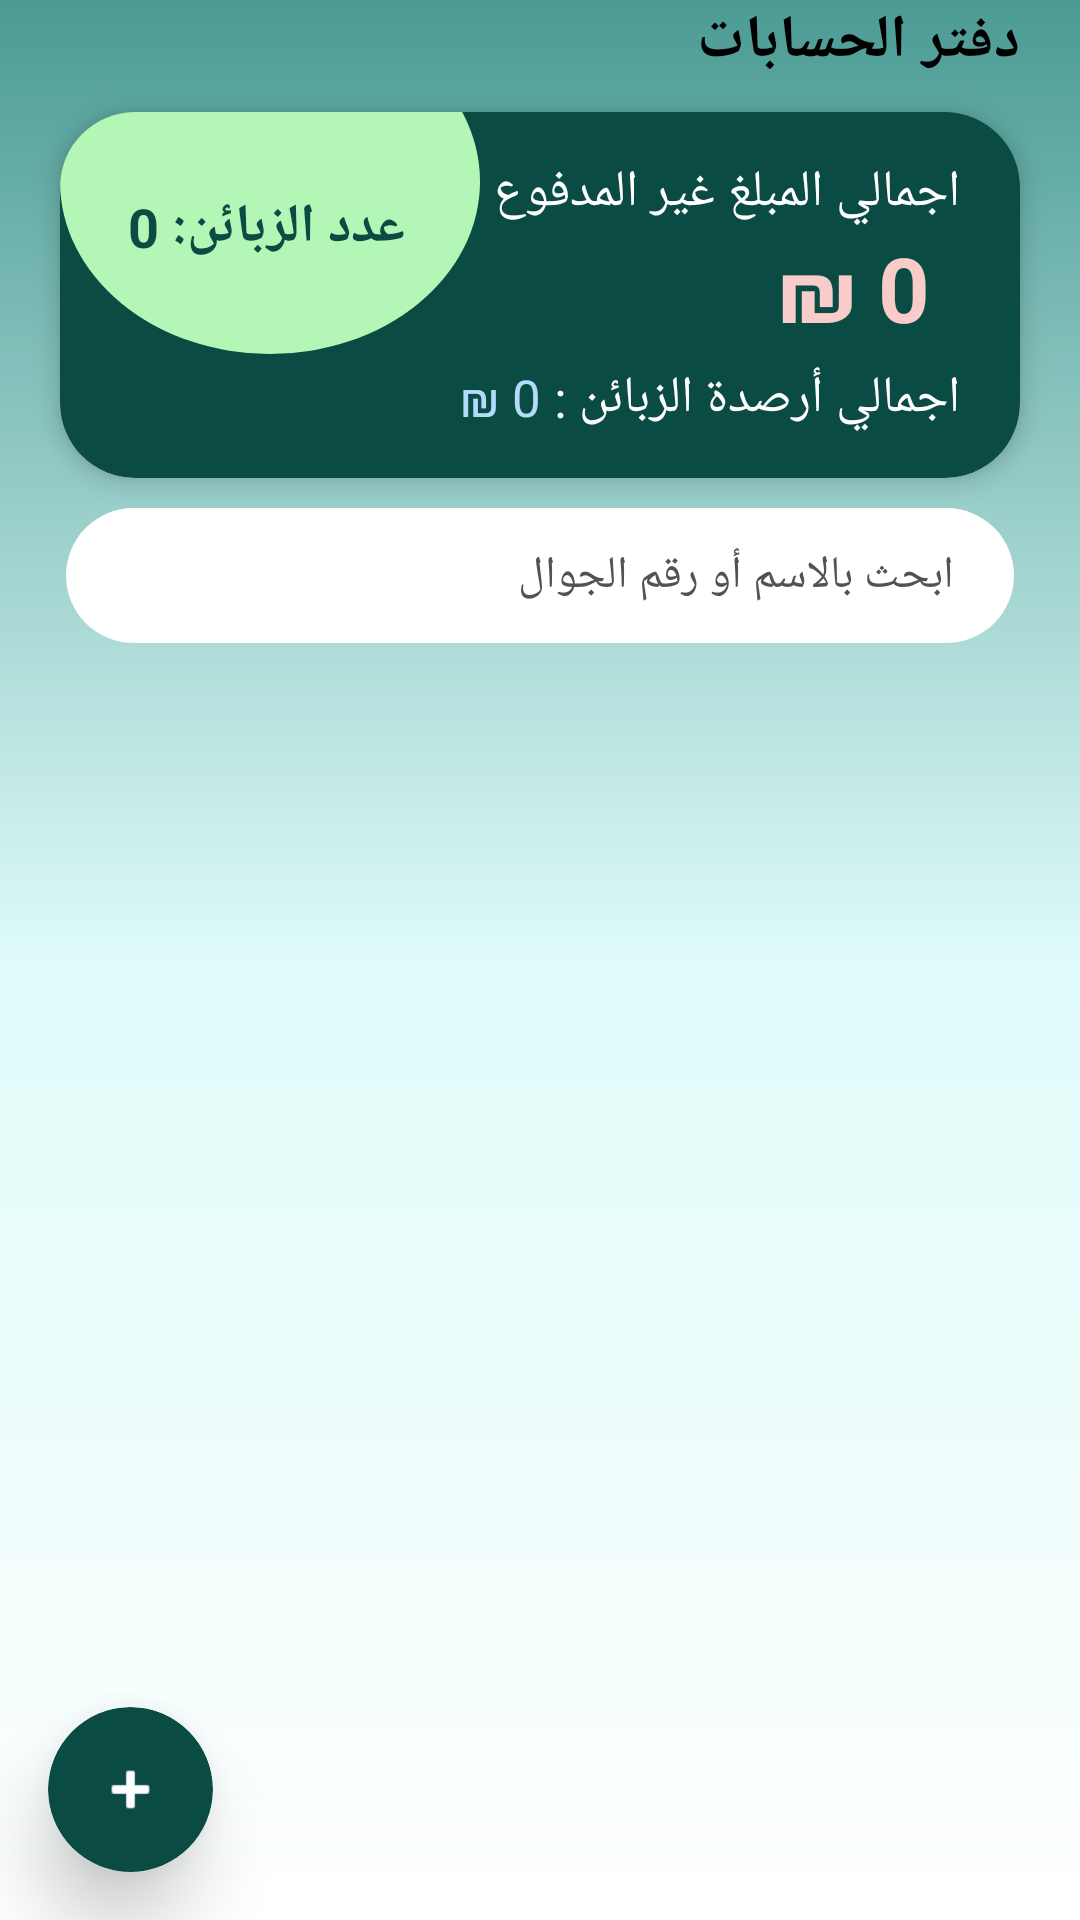

Named icons in this screenshot (1080x1920) and their centers, [x,y]:
add: [130,1789]
